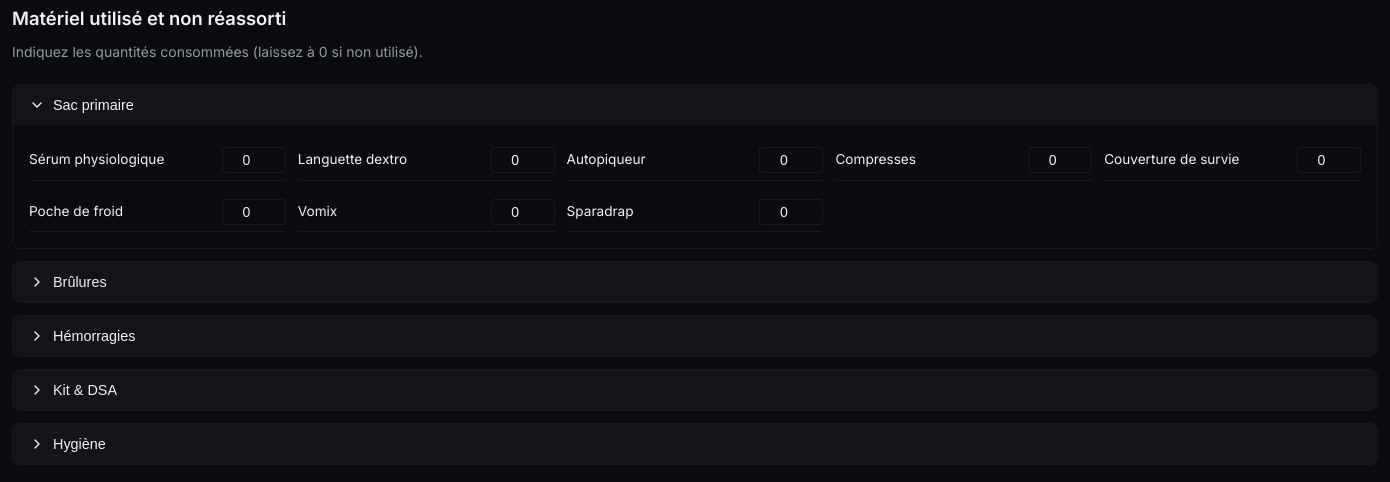
Test: Step3Supplies › replie une catégorie déjà ouverte
Click the button "Sac primaire" at (93, 105), box [13, 85, 1377, 125]
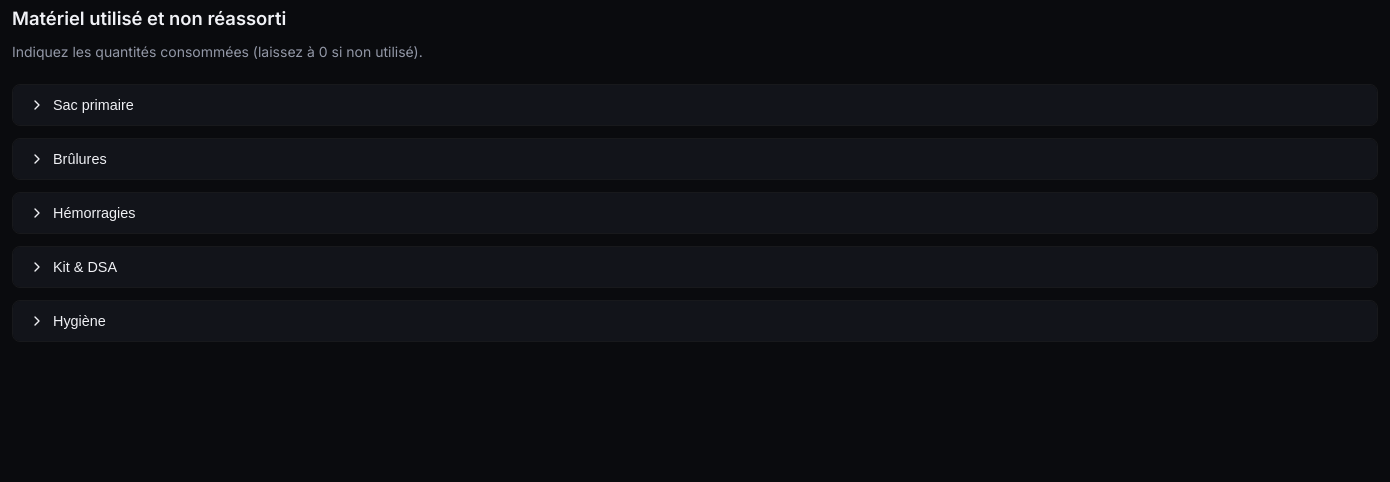
Now the text "Sérum physiologique" is gone
